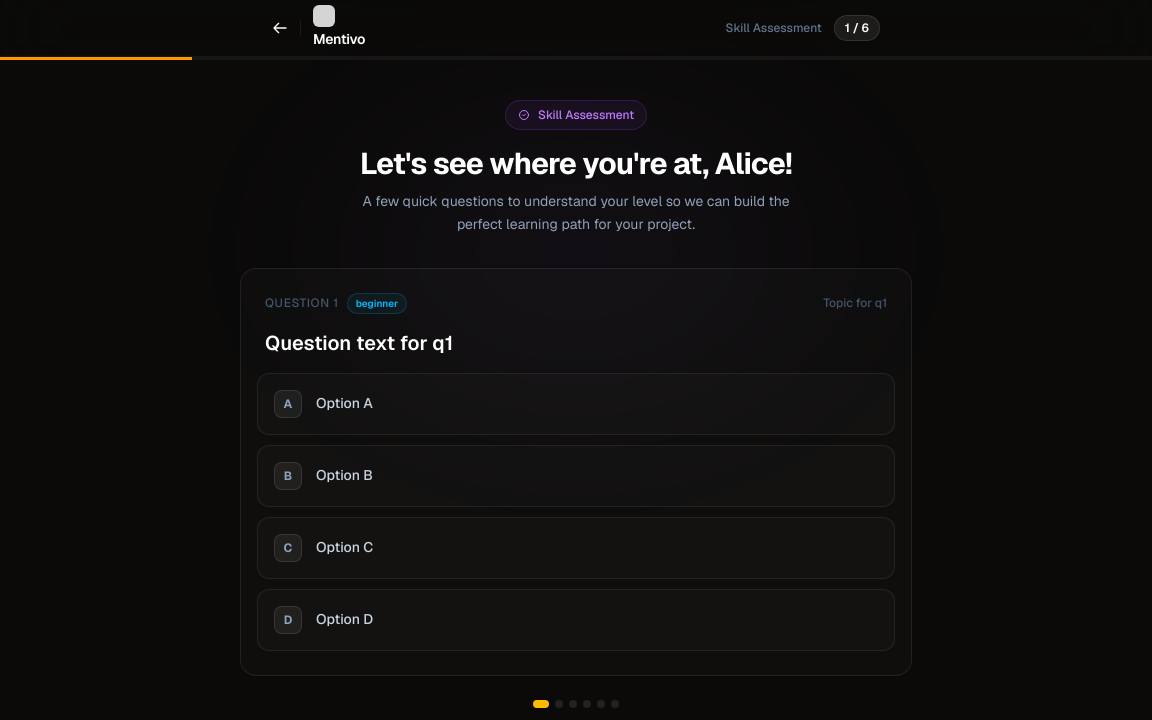
Test: QuizView › shows explanation after selecting an option
Click the text "Option A".
click(344, 404)  # box left=316, top=394, right=373, bottom=414
(page scrolled)
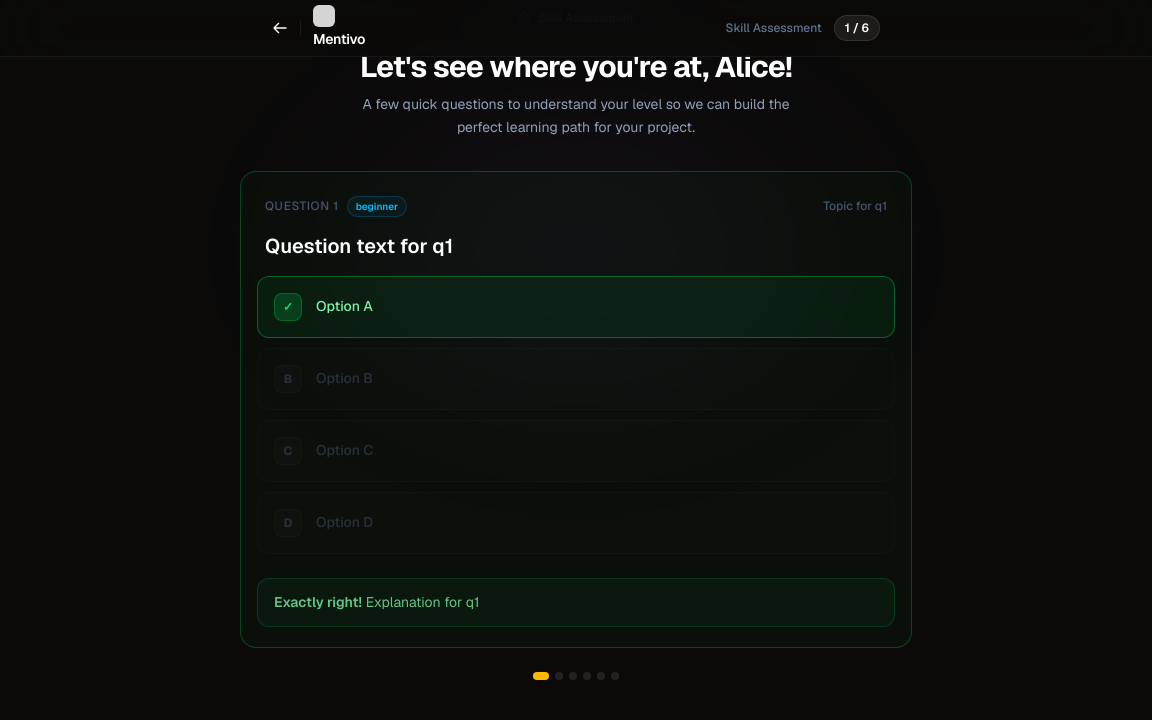
Check: the text "Explanation for q1" is shown, box left=366, top=593, right=480, bottom=611
